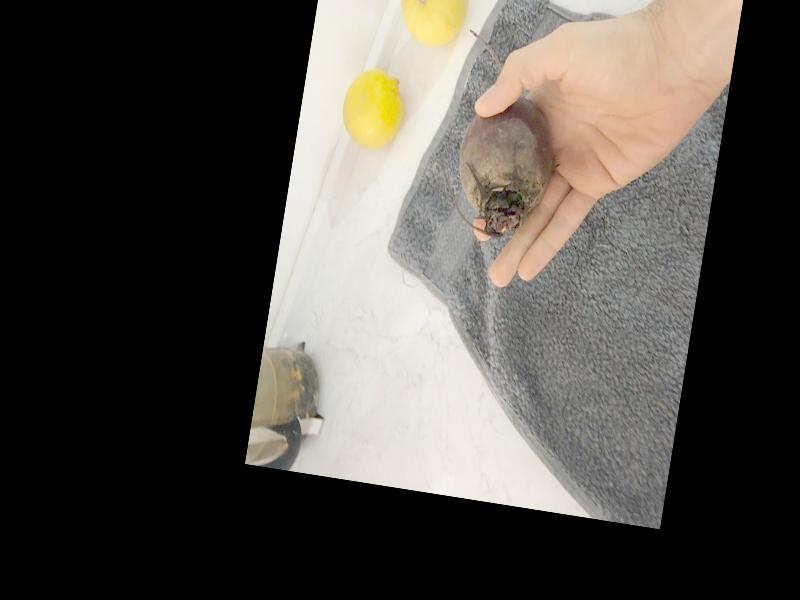Beet: (438, 28, 572, 243)
